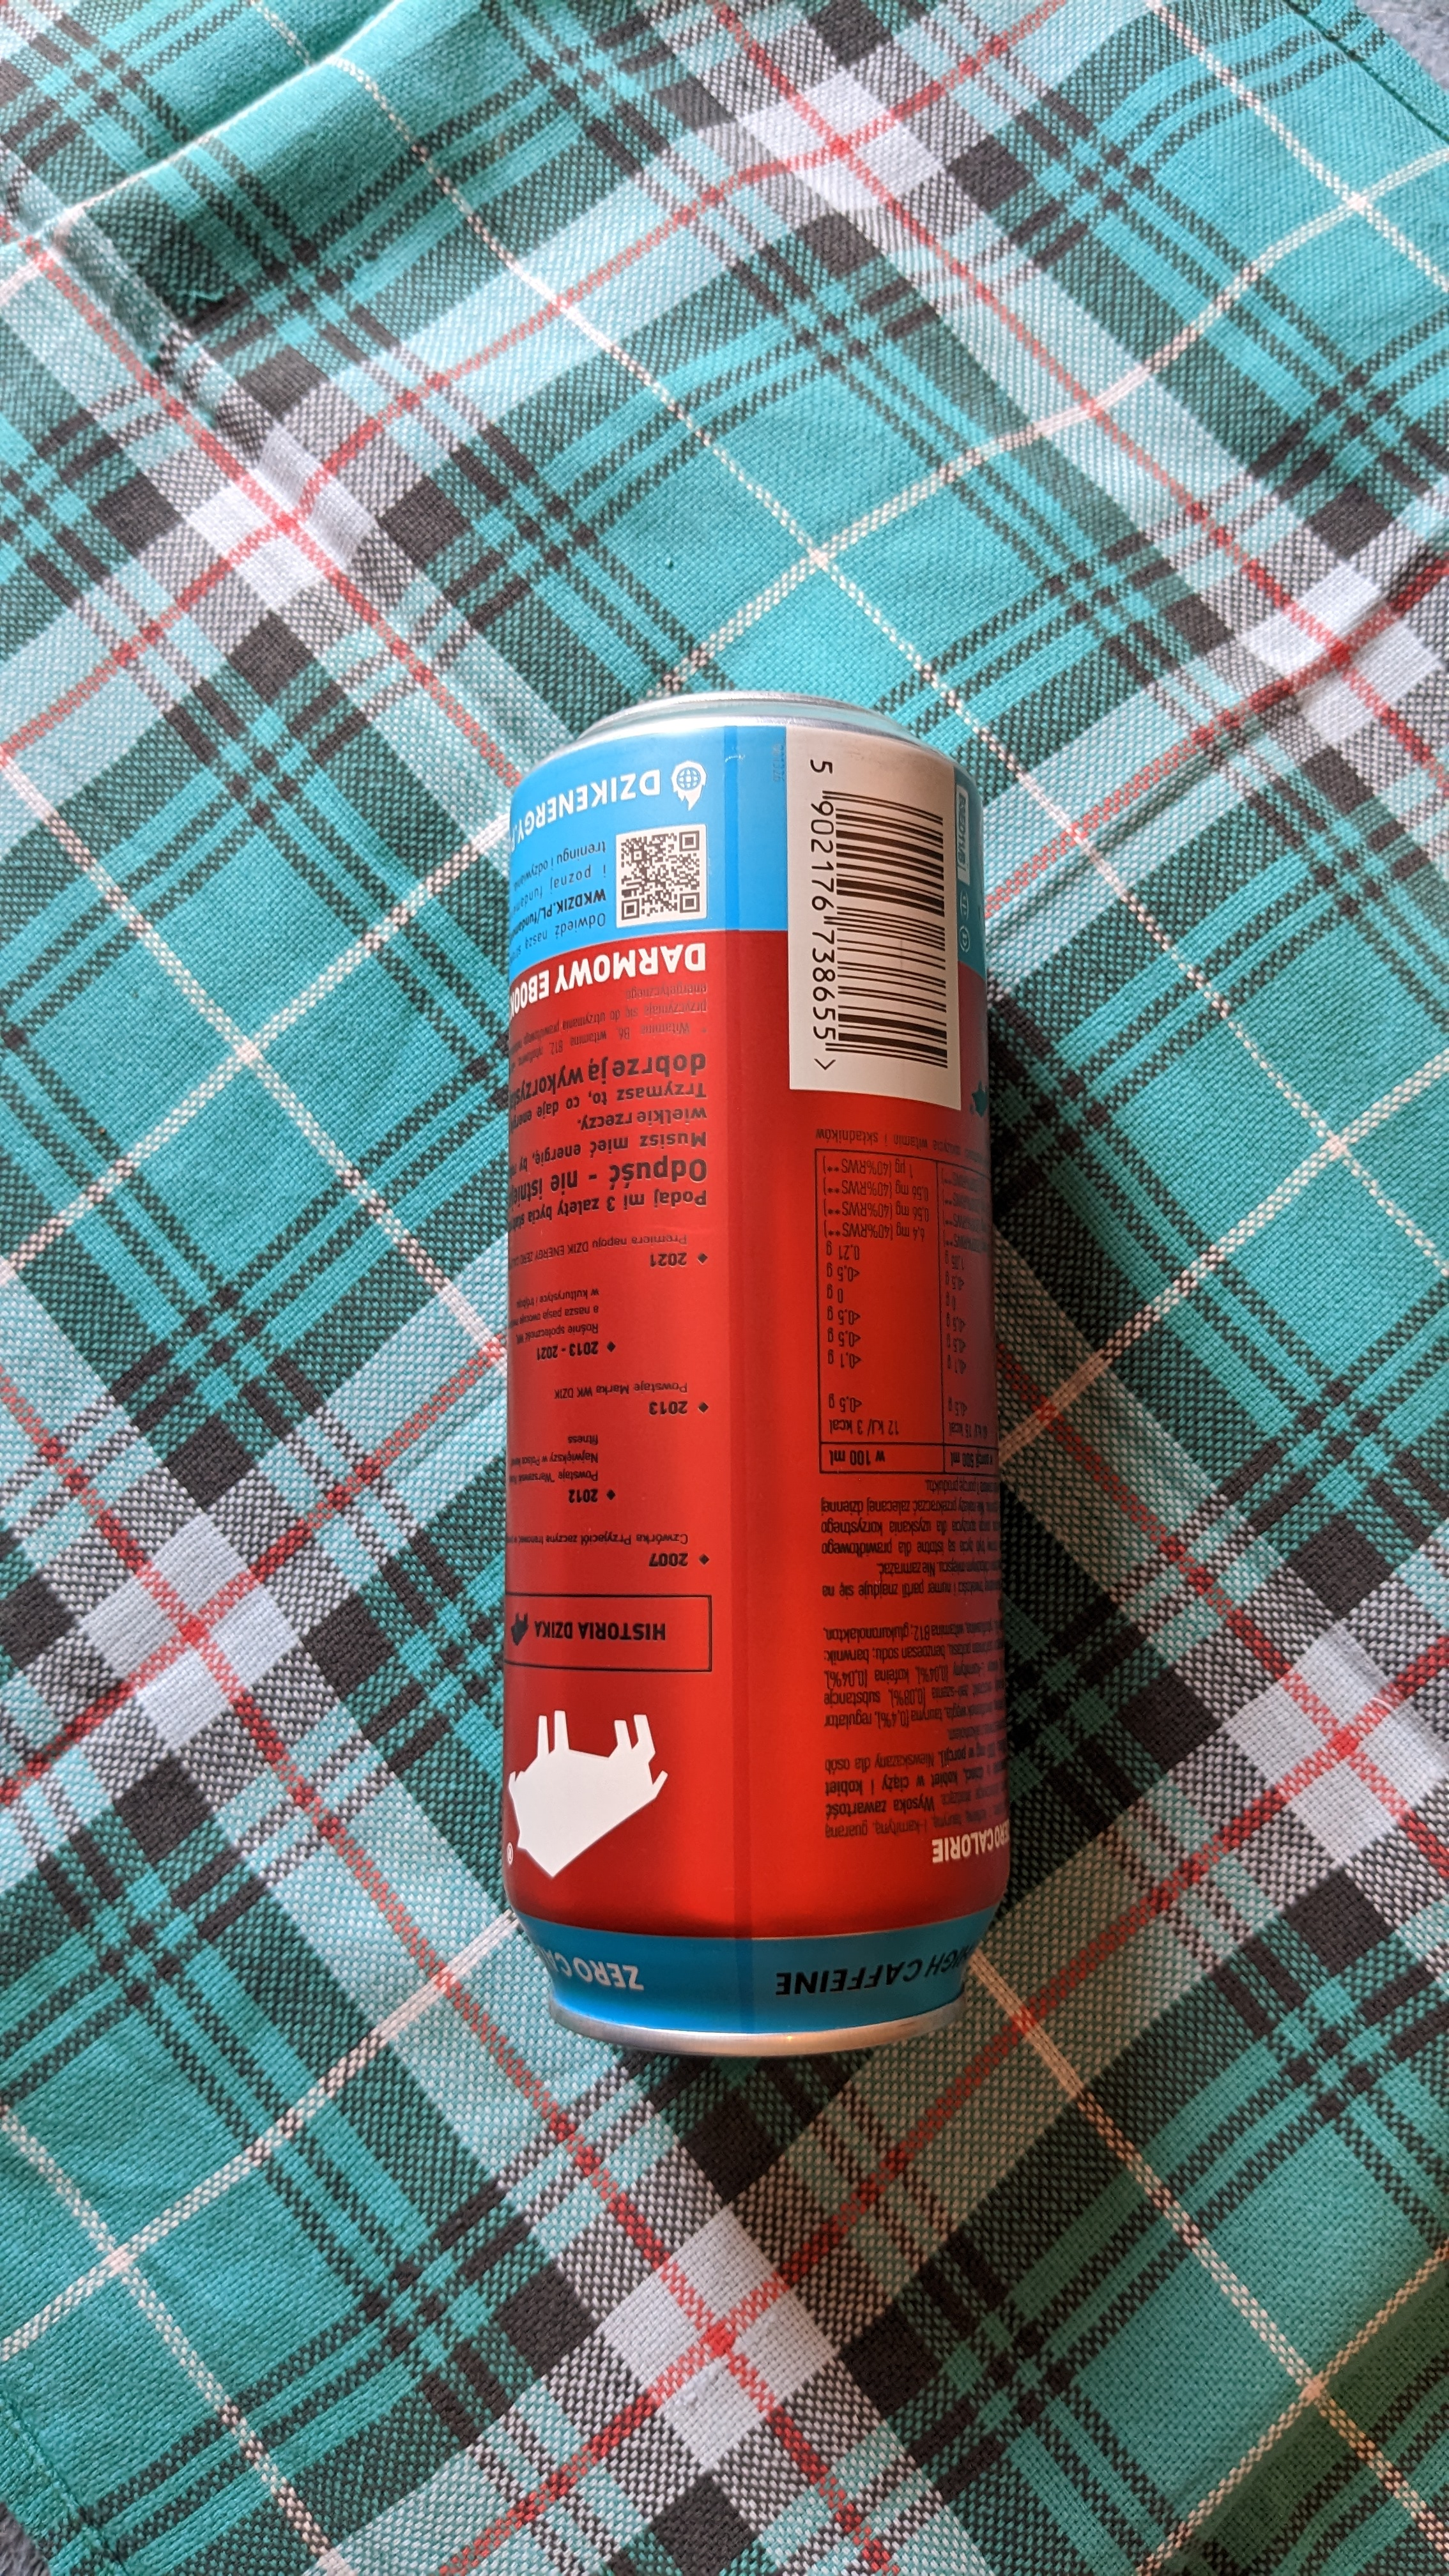dzik: (476, 694, 1056, 2059)
